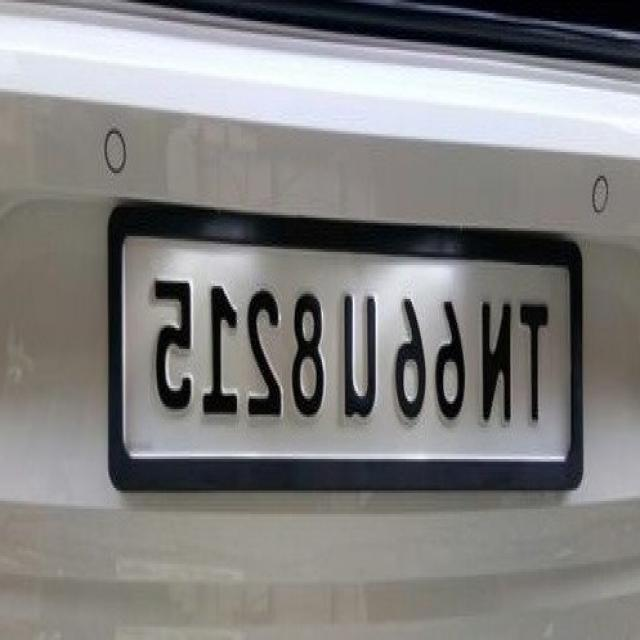license_plate: (99, 218, 593, 504)
